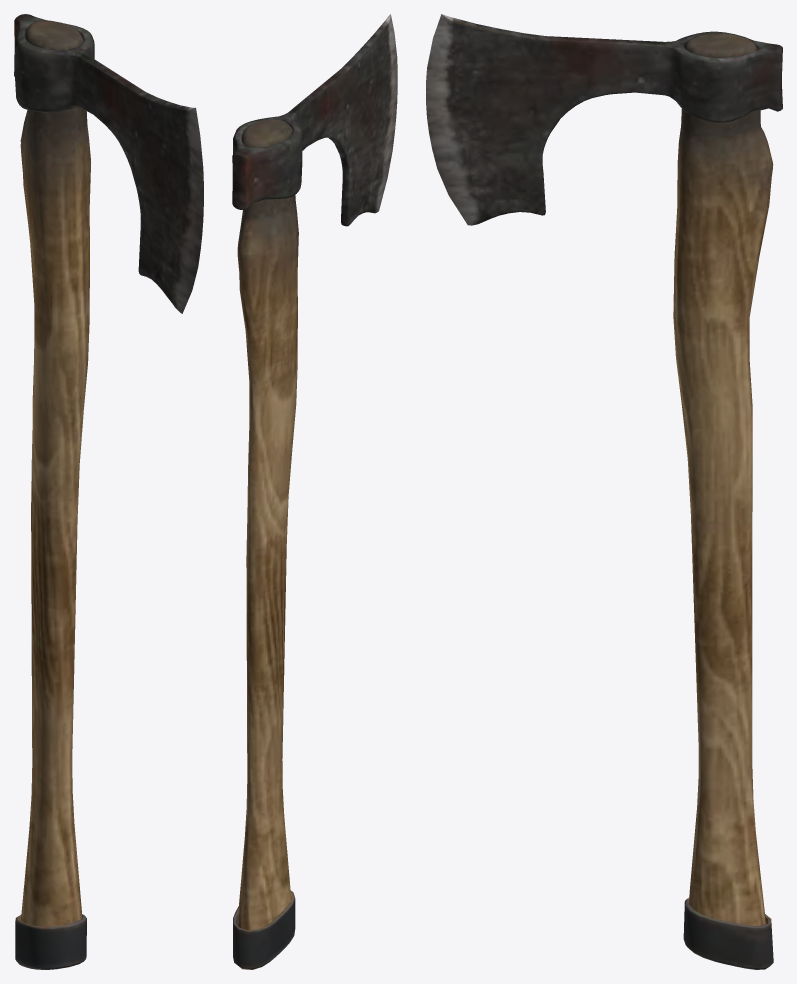
The model's file is wooden_axe.glb.
The picture shows the model from 3 angles, left to right: view 1: azimuth 30°, elevation 25°; view 2: azimuth 150°, elevation 25°; view 3: azimuth 270°, elevation 25°; orthographic projection. The views are drawn at different scales.
Visible parts, largest first — view 1: wooden_axe; view 2: wooden_axe; view 3: wooden_axe.
Part boxes in pixels (x1,y1,x2,y2): wooden_axe: [14, 14, 203, 969]; wooden_axe: [232, 14, 397, 969]; wooden_axe: [426, 14, 782, 969].
Bounding box in the file's own units: 0.0472 × 0.6303 × 0.2143.
1 material, 1 textured.
